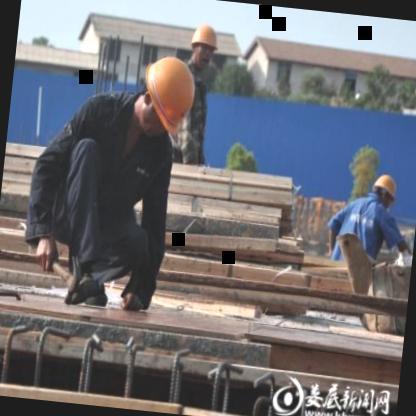helmet: (132, 52, 200, 136), (187, 22, 219, 70), (370, 169, 399, 210)
